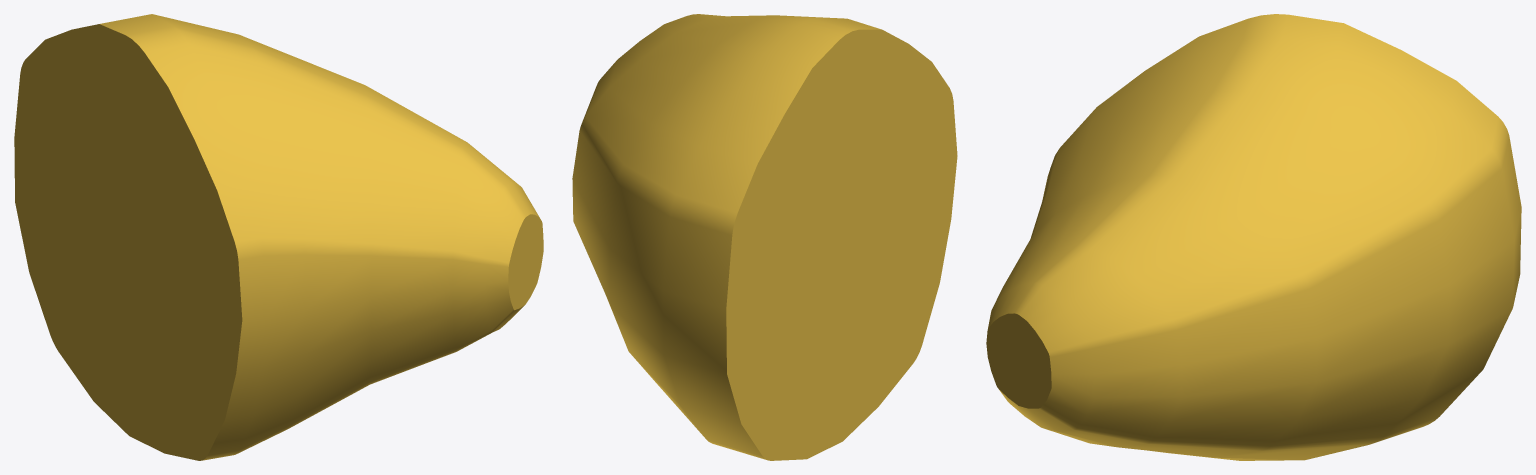
File: banana_bottom.fbx
The picture shows the model from 3 angles, left to right: view 1: azimuth 30°, elevation 25°; view 2: azimuth 150°, elevation 25°; view 3: azimuth 270°, elevation 25°; orthographic projection. The views are drawn at different scales.
Parts seen in each view (by area): view 1: bottom; view 2: bottom; view 3: bottom.
Boxes of the visible parts, x1,y1,x2,y2 form: bottom: (14,14,543,460); bottom: (572,14,957,460); bottom: (986,14,1521,460).
Size of the model in its own units: 68.6 by 84.5 by 98.09.
